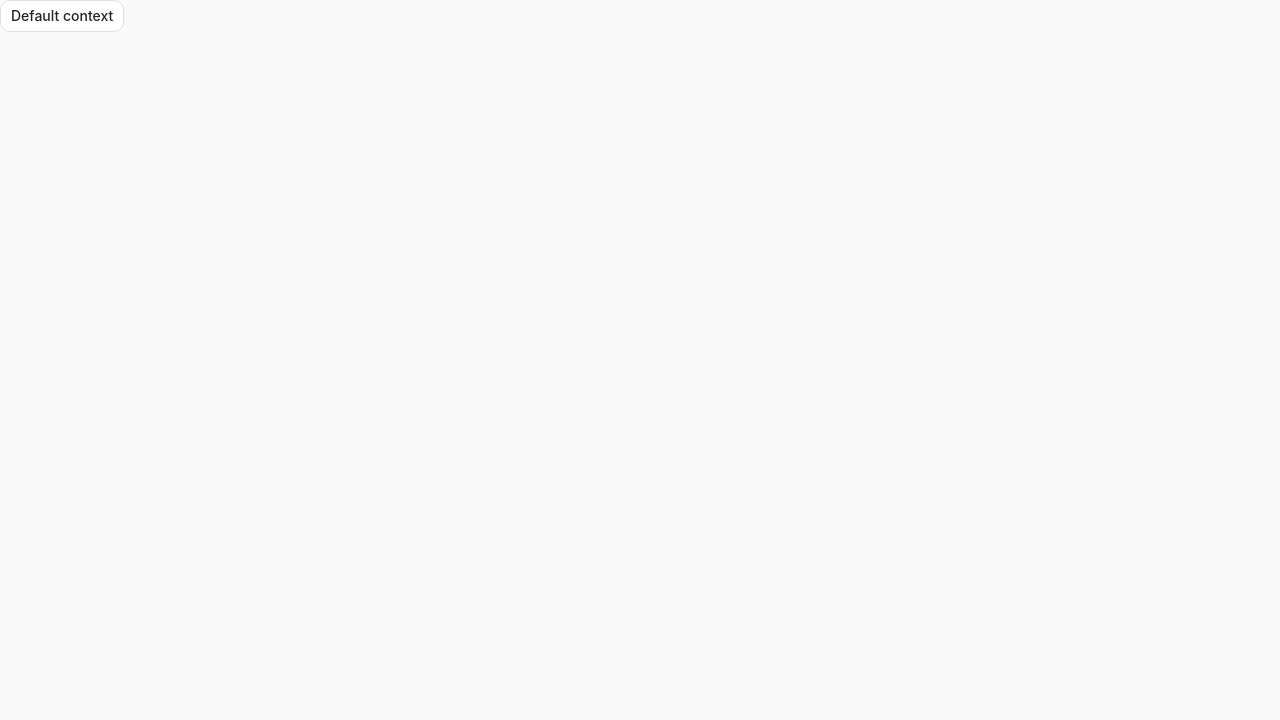
Scenario: default shared context retains the exact foundation fixture and description
Click the button "Default context". click: click(62, 16)
box: [0,0,124,32]
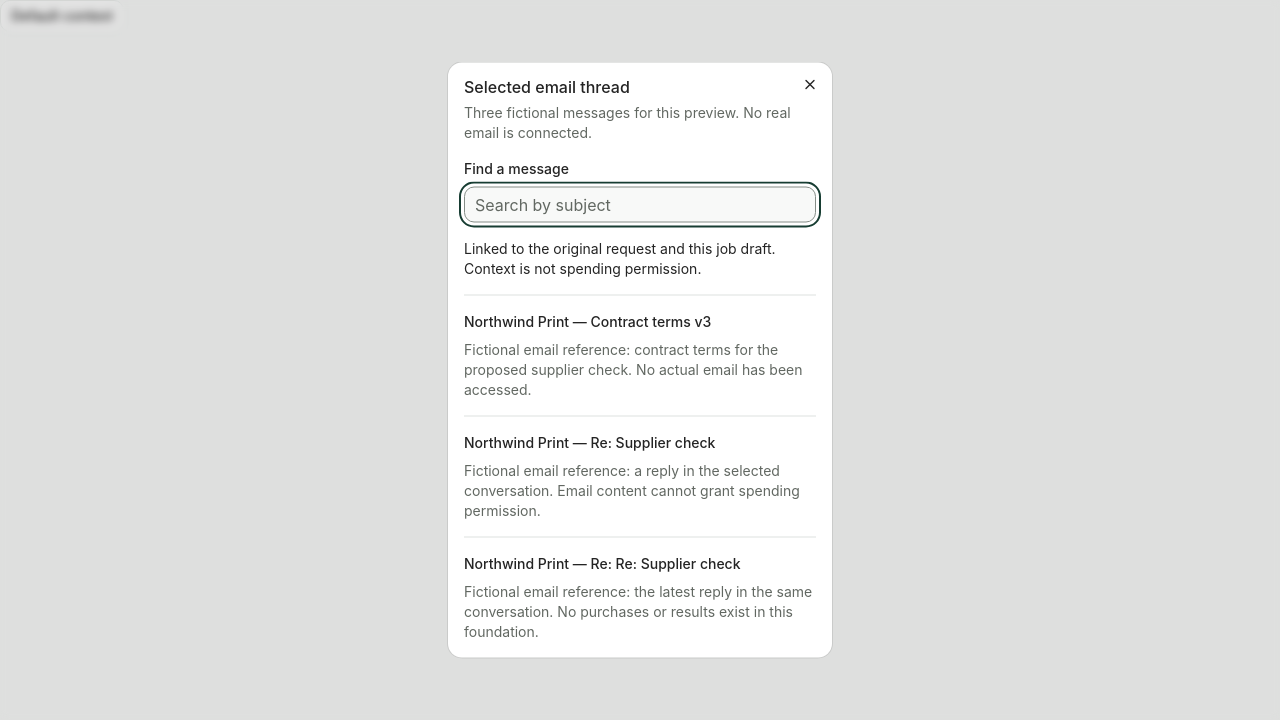
Now the text "Fictional email reference: contract terms for the proposed supplier check. No actual email has been accessed." is shown, box [464,340,802,398]
Now the text "Fictional email reference: a reply in the selected conversation. Email content cannot grant spending permission." is shown, box [464,462,800,518]
Now the text "Fictional email reference: the latest reply in the same conversation. No purchases or results exist in this foundation." is shown, box [464,582,812,640]
